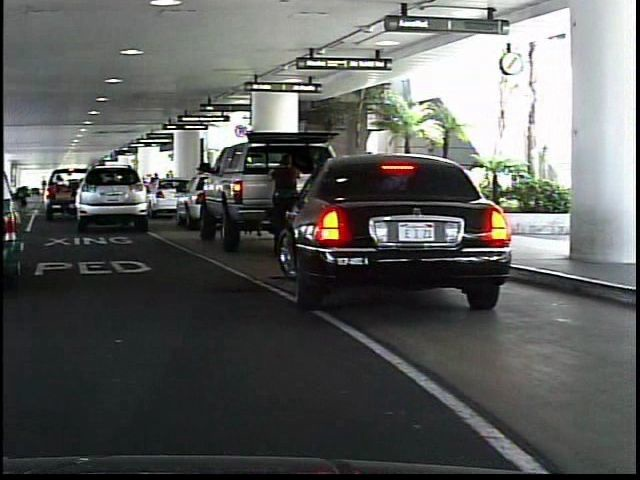person: (260, 150, 310, 253)
